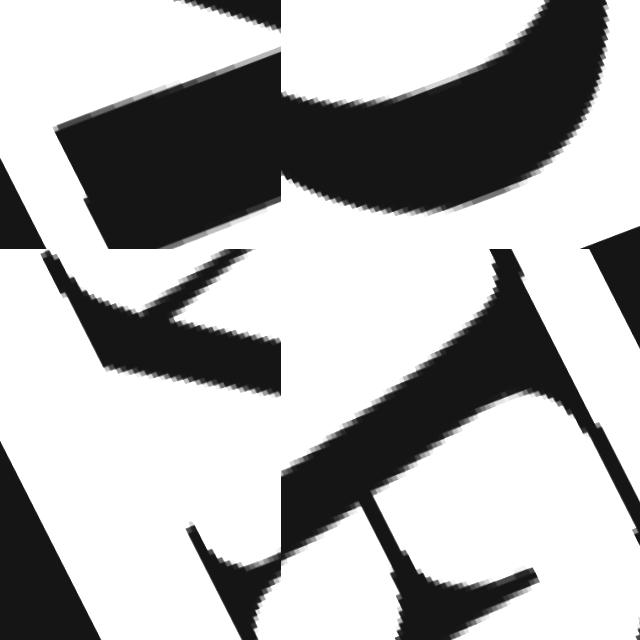D: (281, 0, 640, 249)
E: (281, 249, 640, 640)
N: (0, 249, 281, 640), (0, 0, 281, 249)
